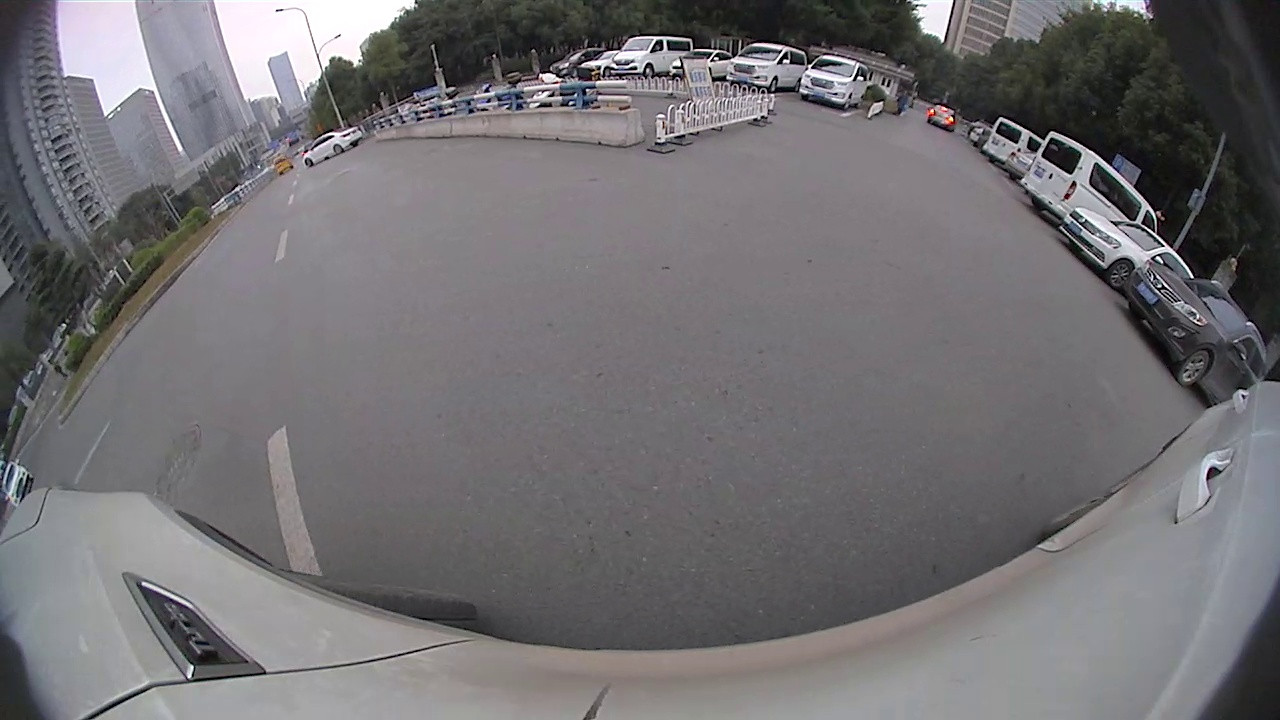car: (1126, 260, 1271, 423), (1021, 129, 1160, 235), (1058, 204, 1197, 293), (797, 53, 873, 114), (725, 41, 809, 93), (610, 34, 695, 78), (981, 114, 1047, 165), (300, 124, 366, 170), (669, 48, 736, 80)
front: (1174, 349, 1211, 388), (1105, 258, 1135, 291), (642, 64, 655, 79), (842, 95, 852, 112), (769, 77, 778, 93), (304, 158, 314, 167)
rear: (333, 144, 344, 155)
